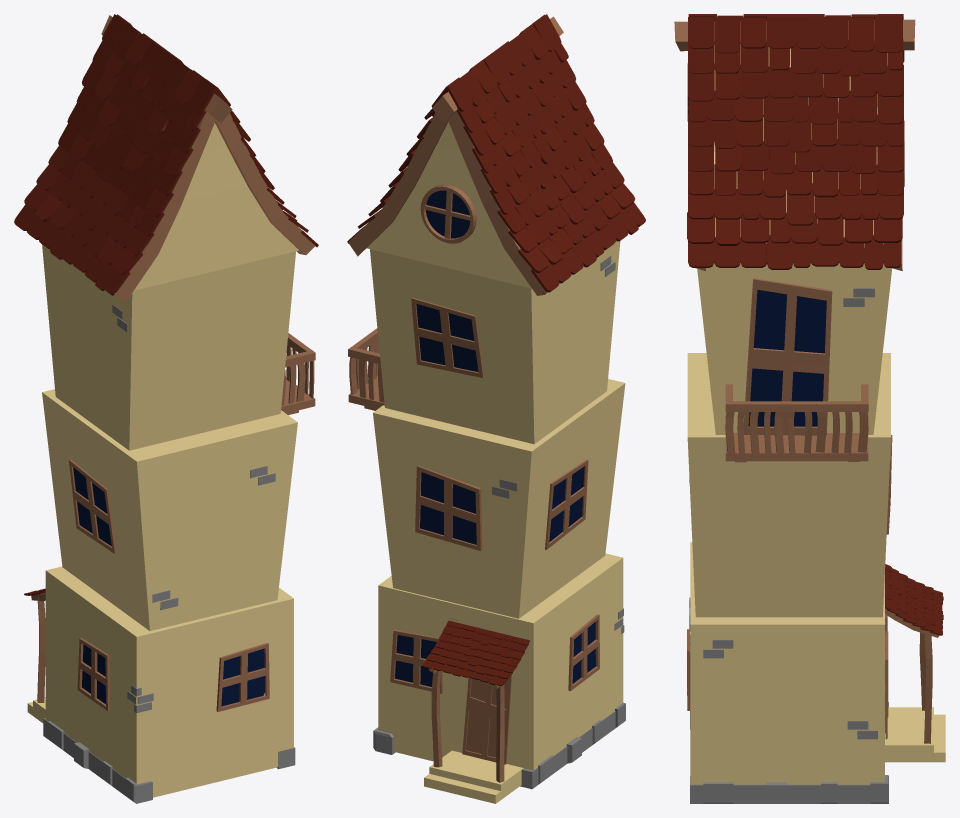
Rendered from house2.fbx.
The picture shows the model from 3 angles, left to right: view 1: azimuth 30°, elevation 25°; view 2: azimuth 150°, elevation 25°; view 3: azimuth 270°, elevation 25°; orthographic projection. The views are drawn at different scales.
Parts seen in each view (by area): view 1: Cube.392; view 2: Cube.392; view 3: Cube.392.
Part boxes in pixels (x1=…): Cube.392: x1=14, y1=14, x2=318, y2=803; Cube.392: x1=347, y1=14, x2=645, y2=803; Cube.392: x1=674, y1=14, x2=945, y2=803.
Size of the model in its own units: 14.98 by 45.18 by 14.84.
